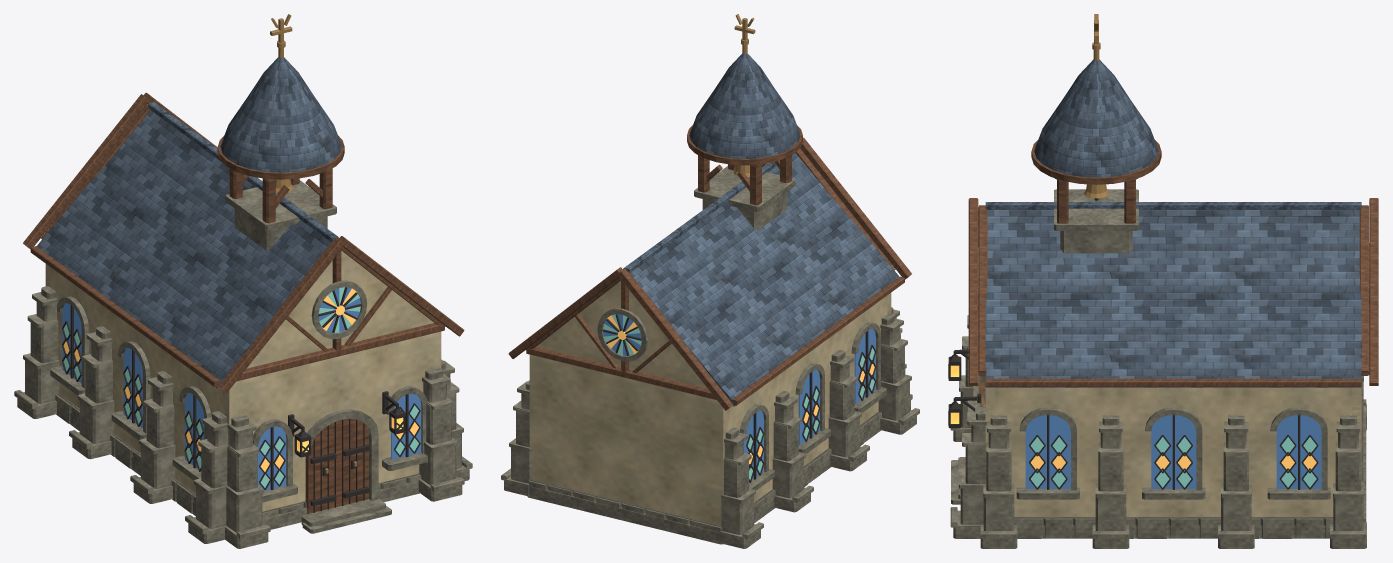
File: chapel.glb
The picture shows the model from 3 angles, left to right: view 1: azimuth 30°, elevation 25°; view 2: azimuth 150°, elevation 25°; view 3: azimuth 270°, elevation 25°; orthographic projection. The views are drawn at different scales.
Parts seen in each view (by area): view 1: Chapel; view 2: Chapel; view 3: Chapel.
Boxes of the visible parts, left/top/right/bottom form: Chapel: left=14, top=14, right=472, bottom=548; Chapel: left=501, top=14, right=919, bottom=548; Chapel: left=948, top=14, right=1378, bottom=548.
Bounding box in the file's own units: 8.14 × 13.13 × 10.98.
12 materials, 6 textured.
